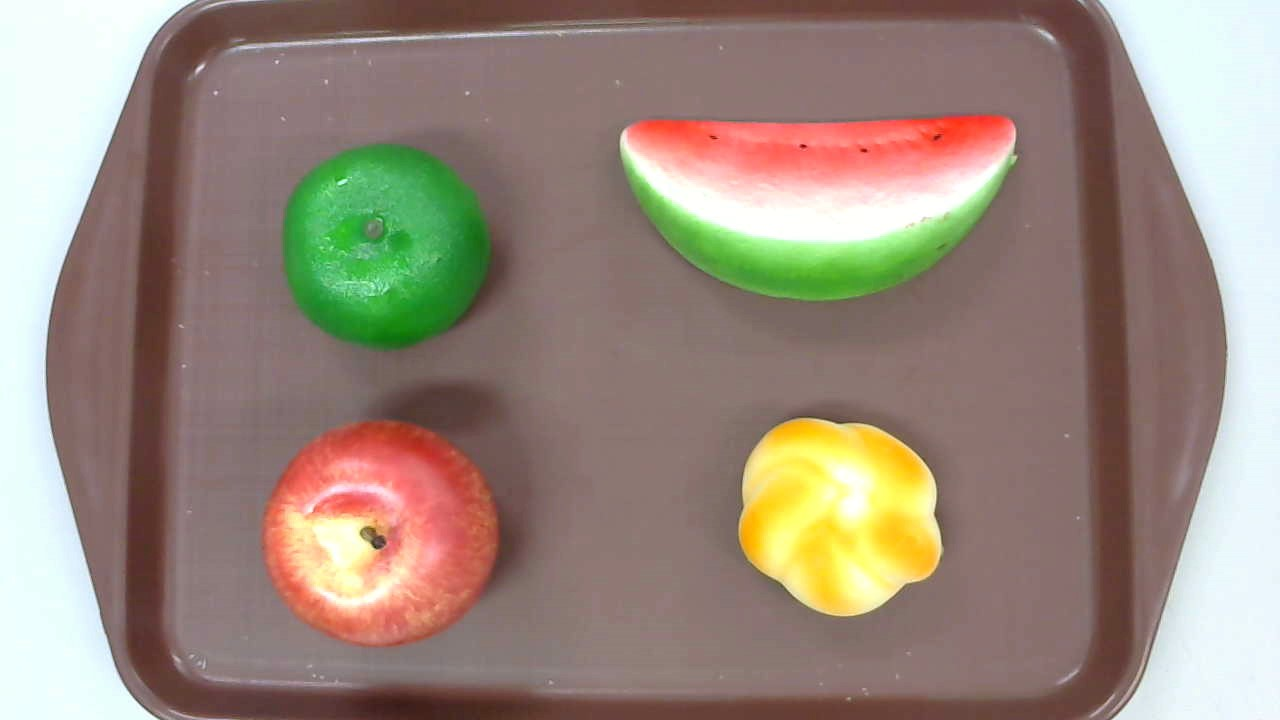green orange: (281, 144, 491, 351)
red apple: (261, 417, 500, 650)
twist bread: (739, 416, 942, 616)
water melon: (620, 112, 1016, 303)
